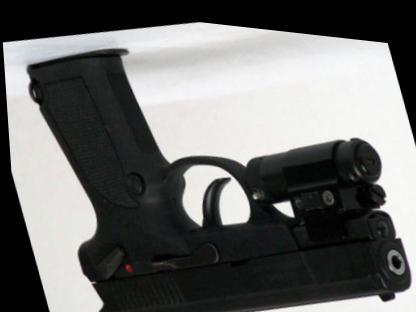pistol: (18, 1, 415, 309)
